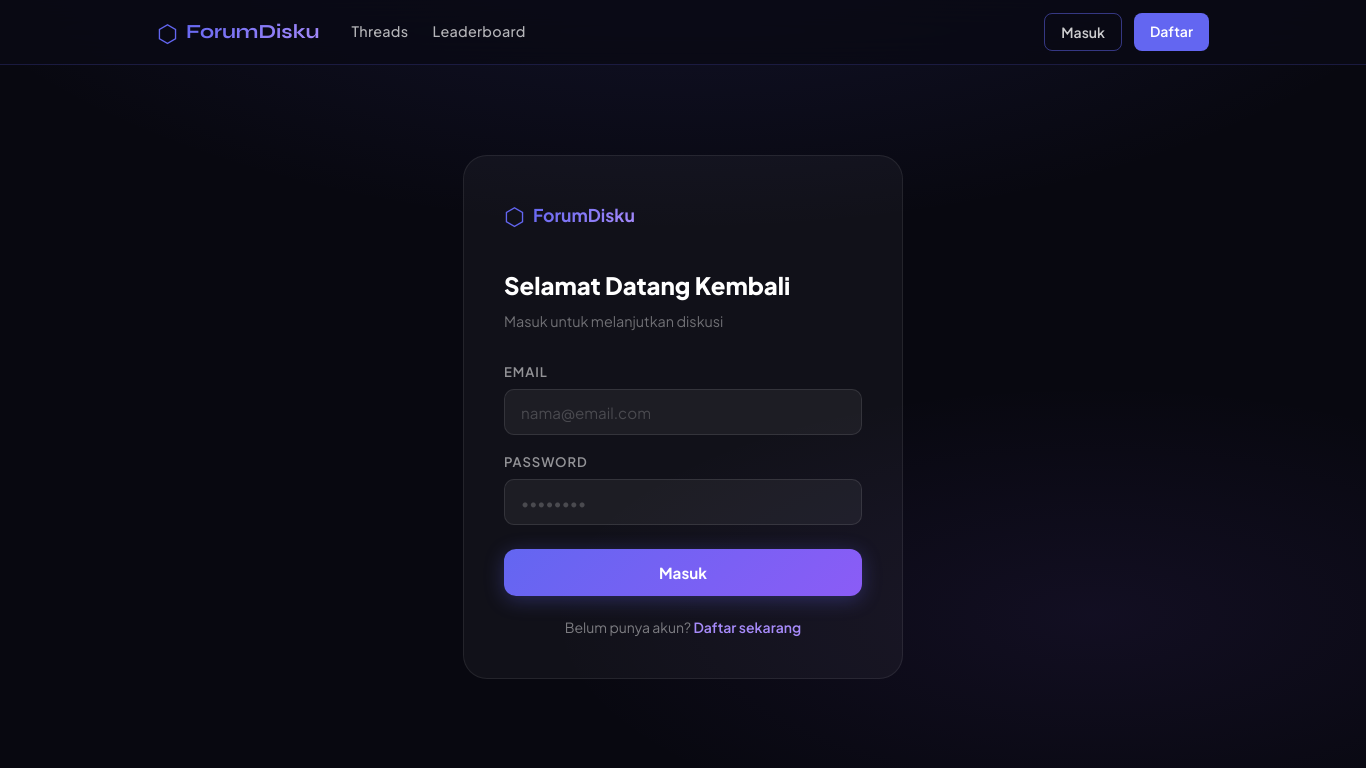
Test: Login Flow › should navigate to register page when clicking register link
The image size is (1366, 768).
Click the link "Daftar sekarang" at (747, 627), box top-left (693, 618), bottom-right (801, 636)
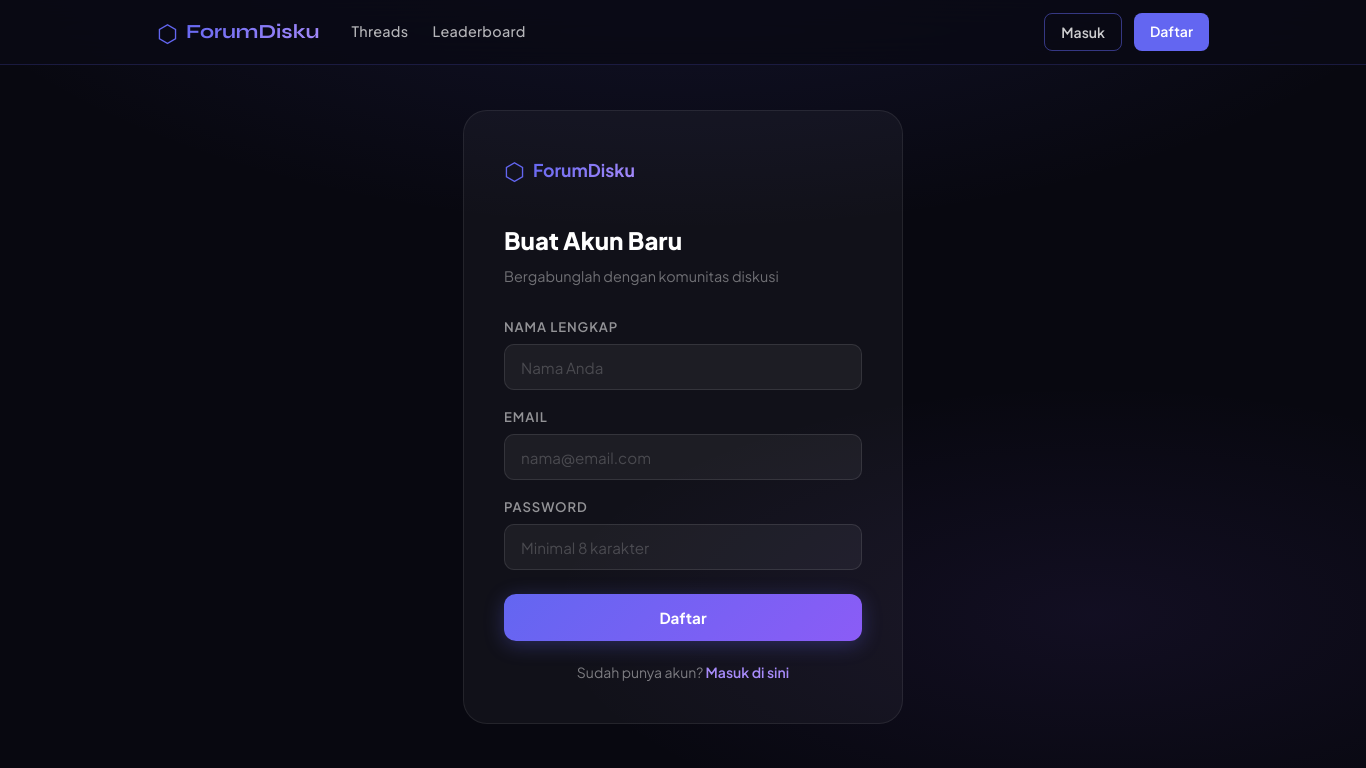
Expected: the heading "Buat Akun Baru" is shown, top-left (504, 225), bottom-right (682, 255)
